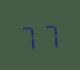seven: (19, 21, 39, 50), (40, 20, 60, 48)
